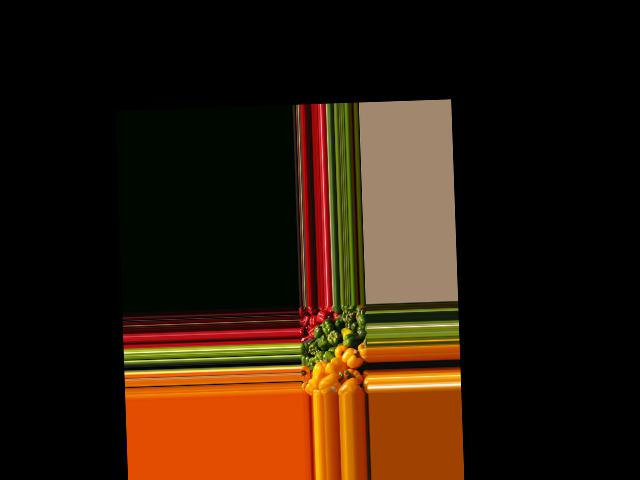bell_pepper: (355, 304, 367, 320)
